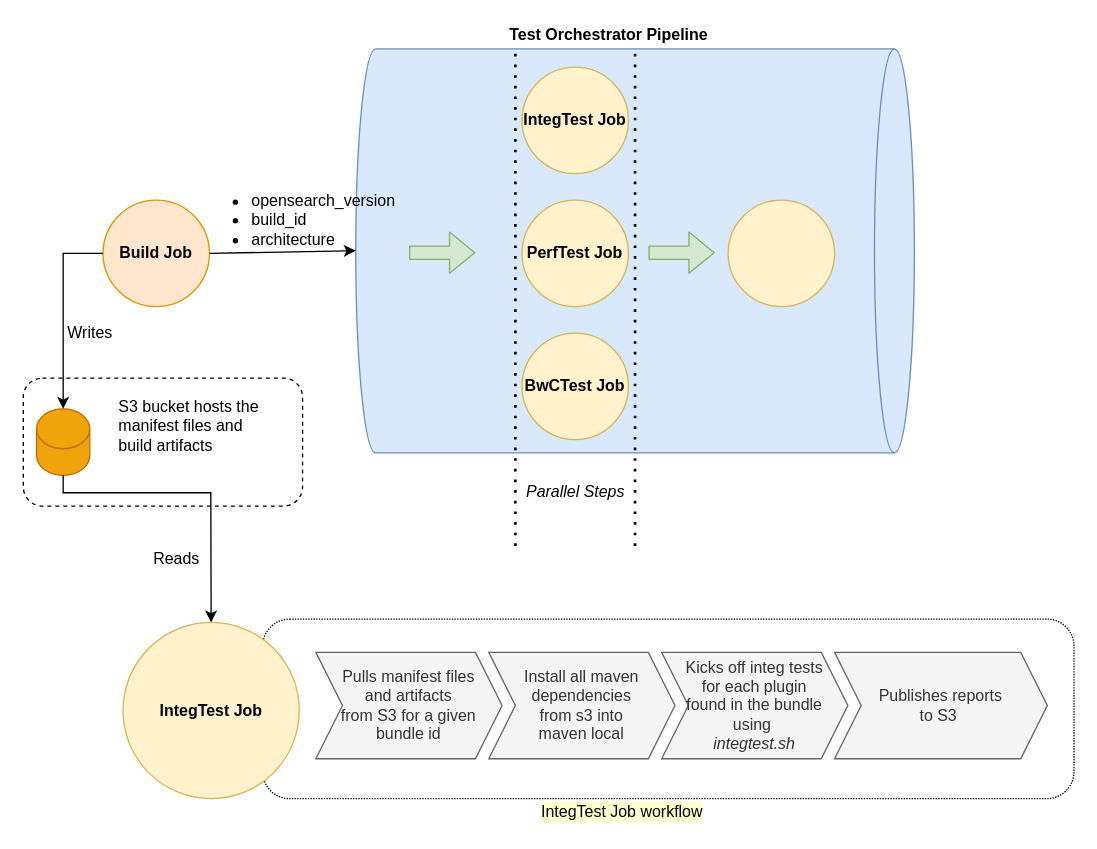
The diagram is 1097 pixels wide and 849 high, and some of its shapes have lost their labels. Each missing label, with the centre of its shape:
"Notification Job" belongs at point 781,253.
"S3" belongs at point 62,441.
